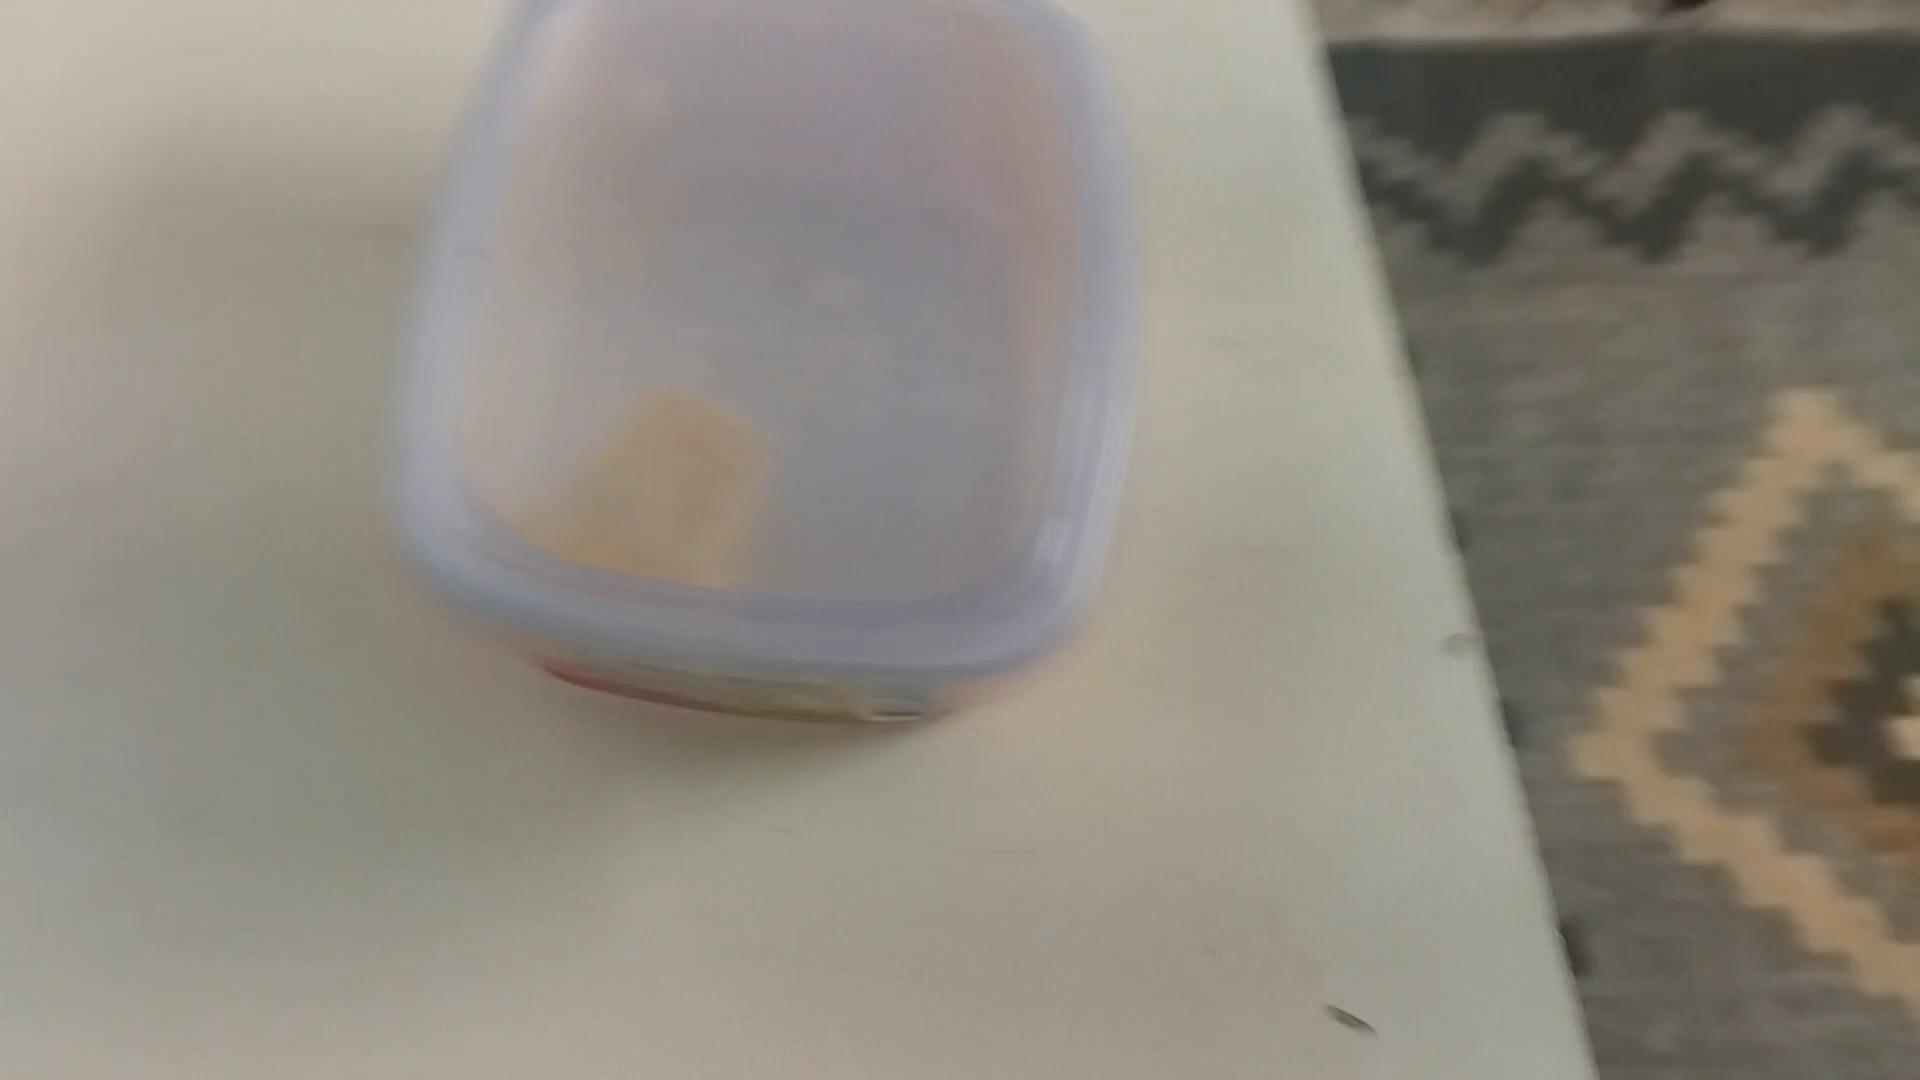butter: (400, 12, 1131, 729)
